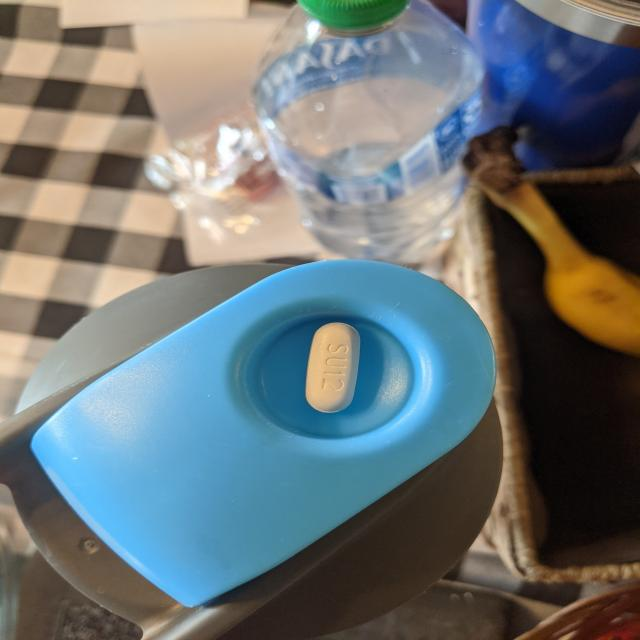non-organic waste: (304, 321, 362, 414)
